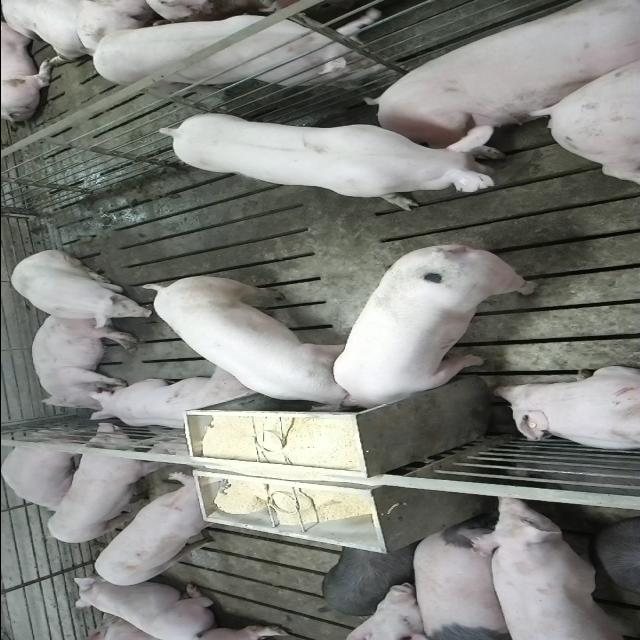Feeding: (331, 248, 539, 420), (137, 273, 360, 409)
Lateral_lying: (360, 2, 636, 160), (28, 312, 136, 411)
Sitting: (8, 250, 156, 329)
Standing: (154, 108, 510, 207), (85, 0, 407, 92), (462, 494, 640, 638), (92, 473, 236, 588), (44, 422, 170, 544), (406, 520, 514, 637), (318, 542, 421, 618)
Sternal_lying: (490, 368, 640, 454), (86, 370, 262, 432), (72, 578, 222, 638), (2, 437, 88, 514)
